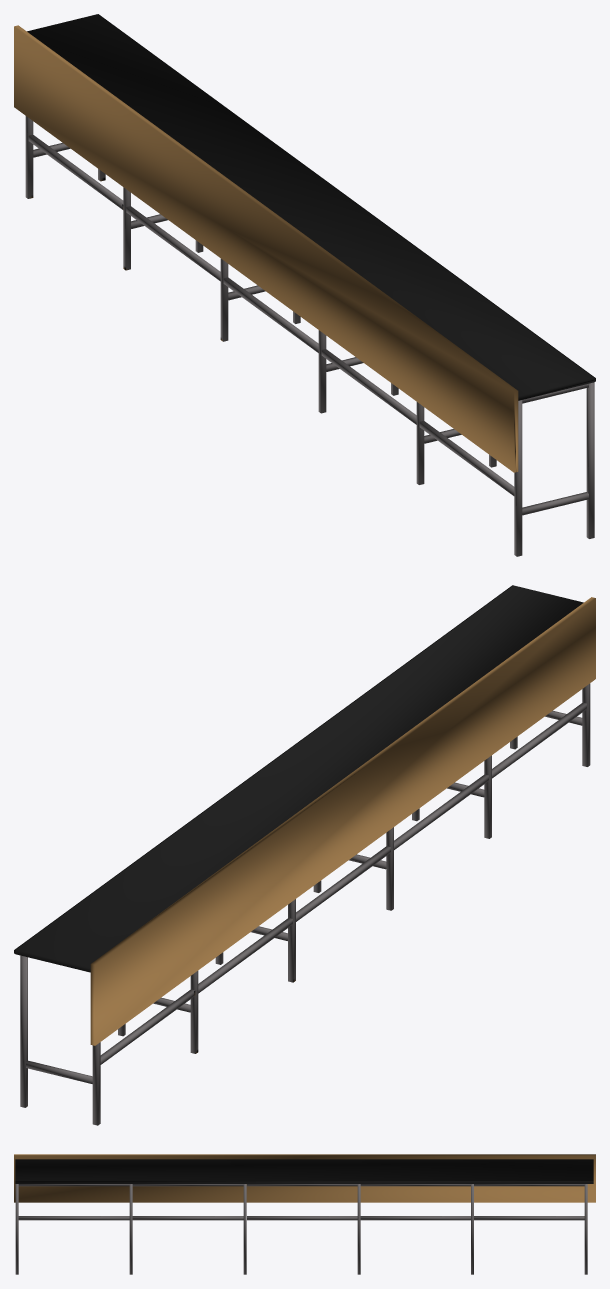
Rendered from LongTable.fbx.
The picture shows the model from 3 angles, top to bottom: view 1: azimuth 30°, elevation 25°; view 2: azimuth 150°, elevation 25°; view 3: azimuth 270°, elevation 25°; orthographic projection. The views are drawn at different scales.
Visible parts, largest first — view 1: LongTable; view 2: LongTable; view 3: LongTable.
Part boxes in pixels (bbox=[...]): LongTable: bbox=[14, 14, 595, 556]; LongTable: bbox=[14, 585, 595, 1125]; LongTable: bbox=[14, 1154, 595, 1274].
Bounding box in the file's own units: 37.61 × 72.15 × 392.
1 material, 1 textured.
